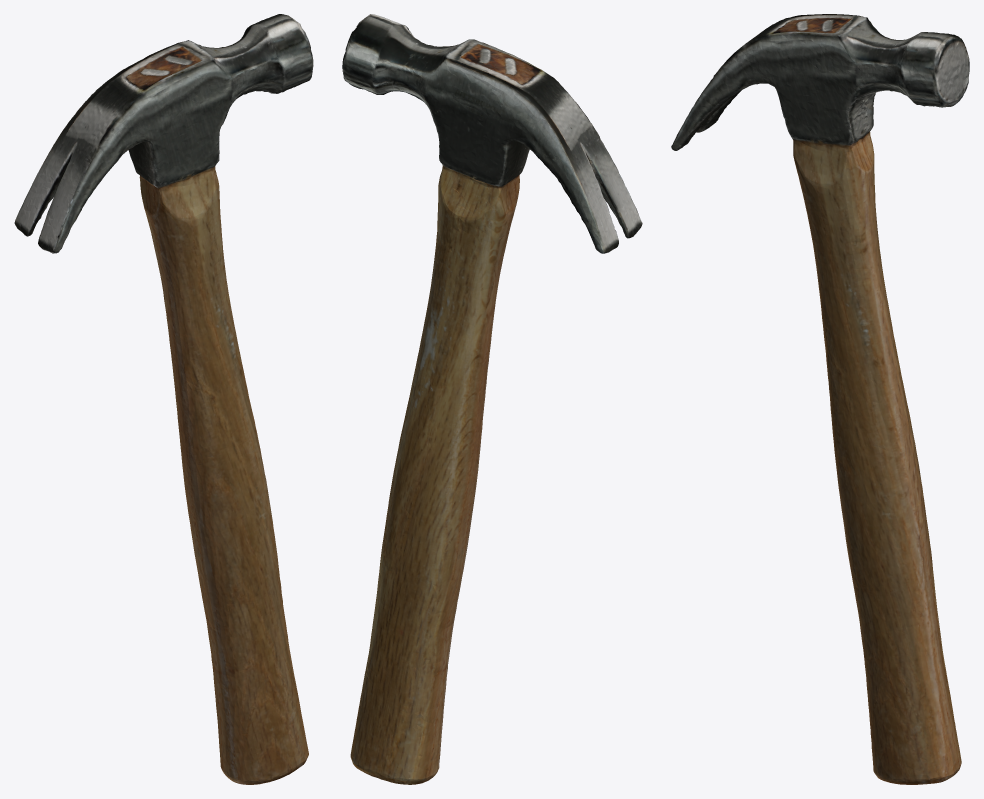
The model's file is hammer.glb.
3 renders of one model, left to right at view 1: azimuth 30°, elevation 25°; view 2: azimuth 150°, elevation 25°; view 3: azimuth 330°, elevation 25°, orthographic.
Parts seen in each view (by area): view 1: textured.obj; view 2: textured.obj; view 3: textured.obj.
Part boxes in pixels (x1=…): textured.obj: x1=14, y1=14, x2=313, y2=784; textured.obj: x1=342, y1=14, x2=642, y2=784; textured.obj: x1=671, y1=14, x2=969, y2=784.
Size of the model in its own units: 0.1264 by 0.3355 by 0.0323.
Materials: 1 (1 with a texture image).
